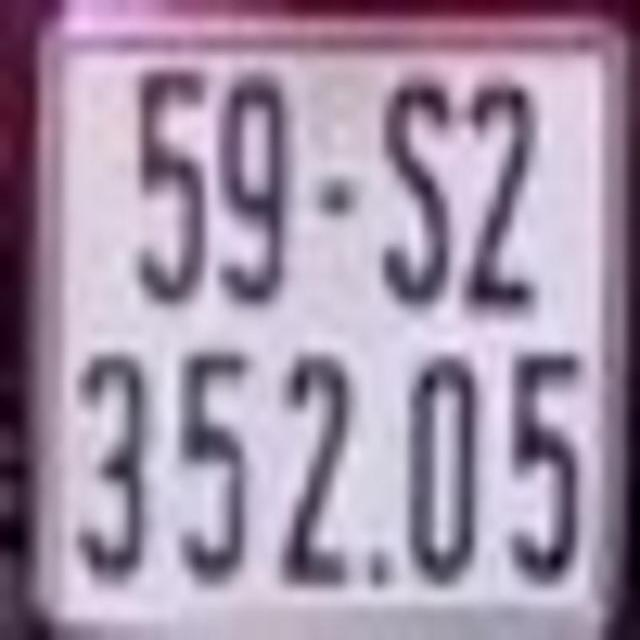0: (406, 354, 478, 583)
2: (281, 350, 351, 589), (469, 82, 536, 310)
3: (74, 349, 148, 582)
5: (135, 66, 209, 302), (508, 349, 582, 582), (178, 348, 249, 583)
9: (218, 73, 286, 304)
S: (380, 78, 454, 305)
